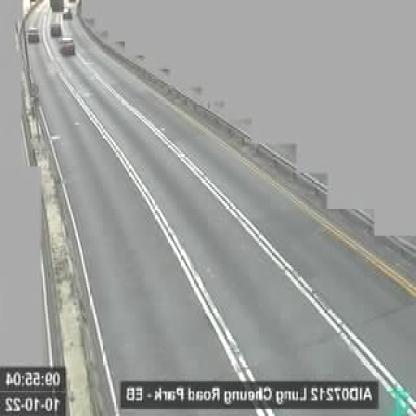Car: (60, 36, 76, 56), (27, 27, 38, 44), (50, 22, 62, 36), (64, 8, 72, 18)
